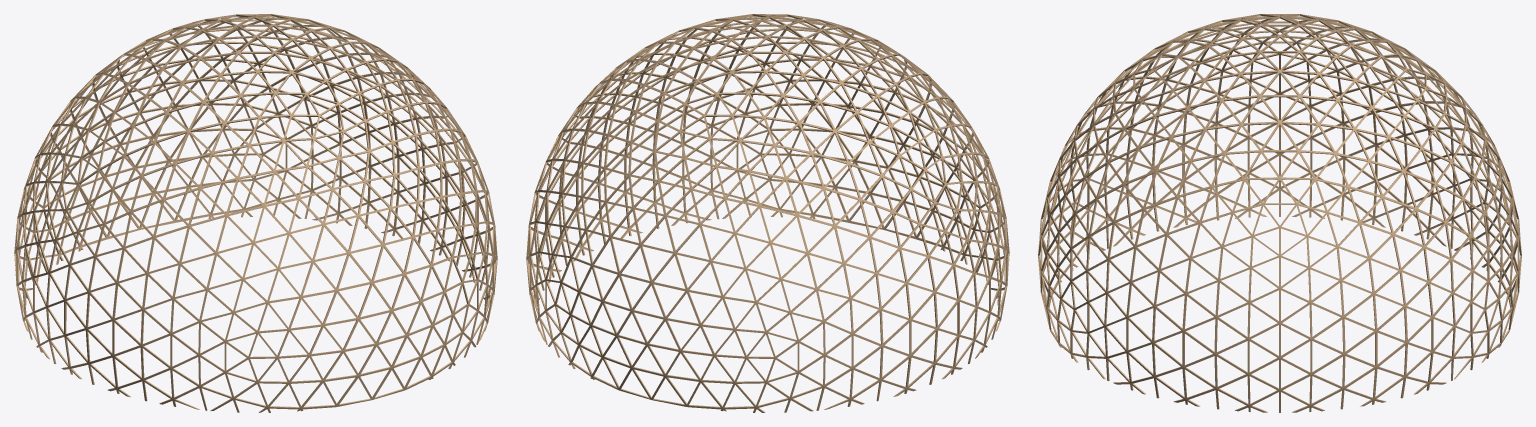
Rendered from Intro_Floor_Timber.glb.
3 renders of one model, left to right at view 1: azimuth 30°, elevation 25°; view 2: azimuth 150°, elevation 25°; view 3: azimuth 270°, elevation 25°, orthographic.
Parts seen in each view (by area): view 1: Intro_Dome_Timber; view 2: Intro_Dome_Timber; view 3: Intro_Dome_Timber.
Boxes of the visible parts, <box> form: Intro_Dome_Timber: <box>14,14,497,412</box>; Intro_Dome_Timber: <box>526,14,1009,412</box>; Intro_Dome_Timber: <box>1038,14,1521,412</box>.
Bounding box in the file's own units: 21.53 × 13.69 × 21.53.
